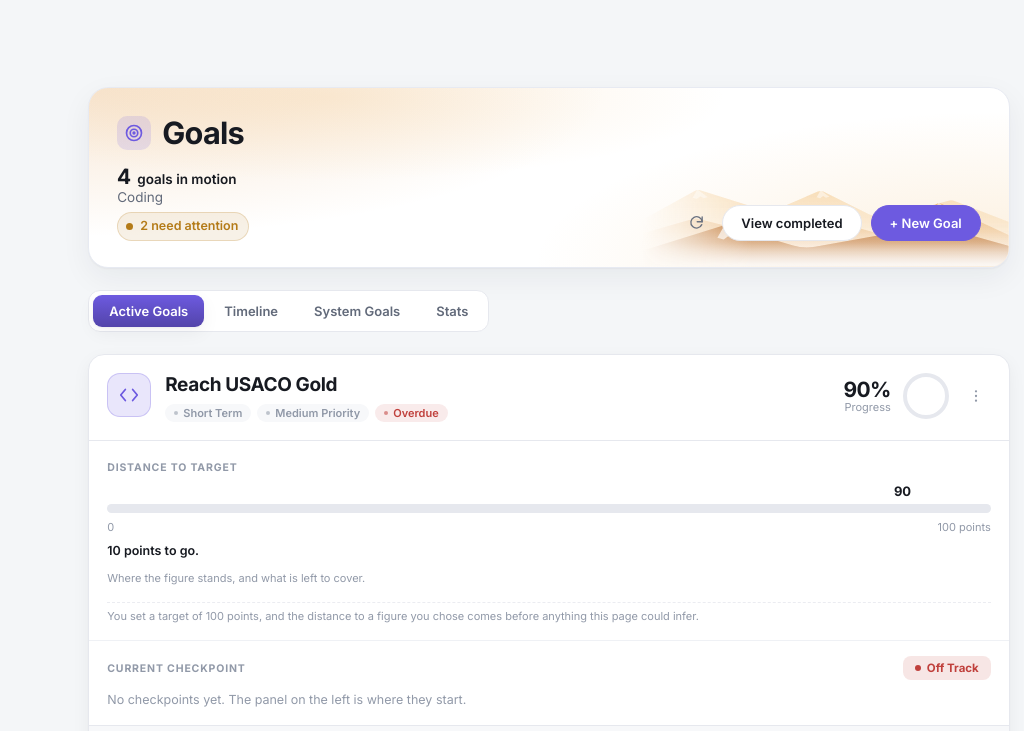
Test: the attention filter › turns itself off again
Click the button "2 need attention". click: (183, 226)
box: x1=117 y1=212 x2=249 y2=241
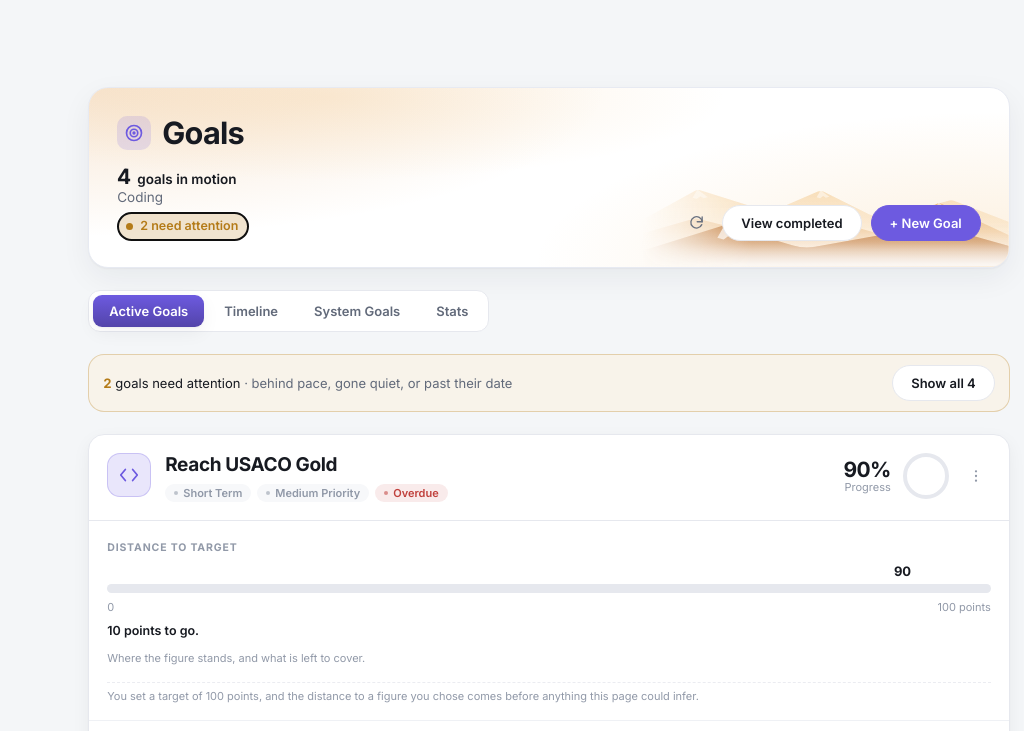
Check: the button "2 need attention" is pressed
Click the button "2 need attention". click: (183, 226)
box: x1=117 y1=212 x2=249 y2=241
(page scrolled)
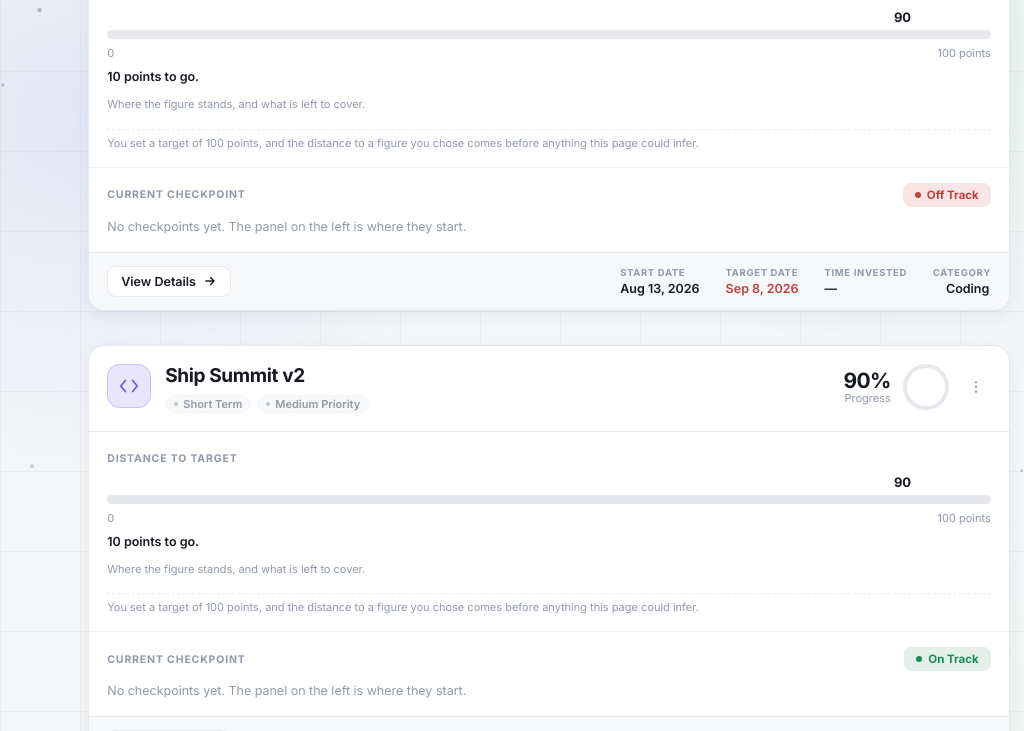
Check: the heading "Ship Summit v2" is shown, box x1=165 y1=364 x2=305 y2=387
